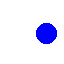circle: (36, 23, 56, 43)
